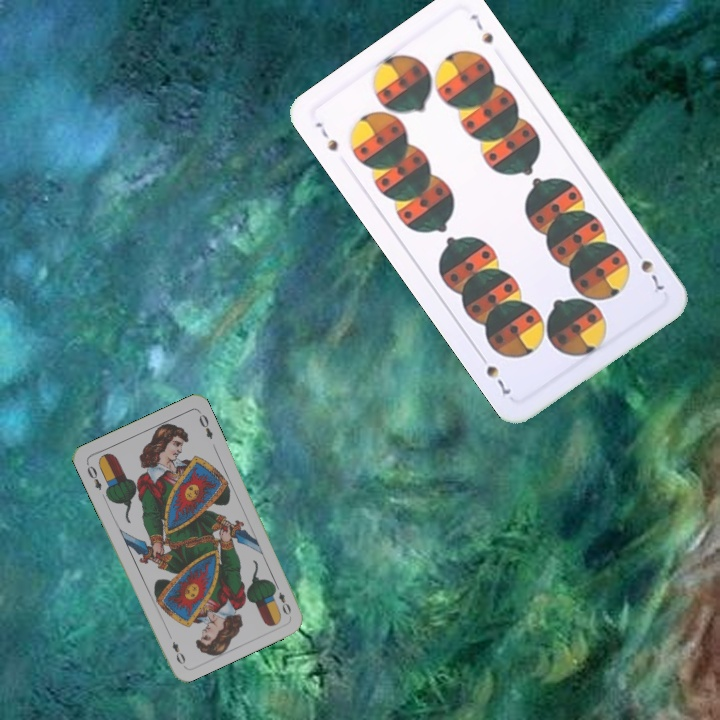EO: (270, 580, 294, 618), (82, 459, 104, 493)
S7: (629, 244, 667, 293), (310, 118, 341, 155)
